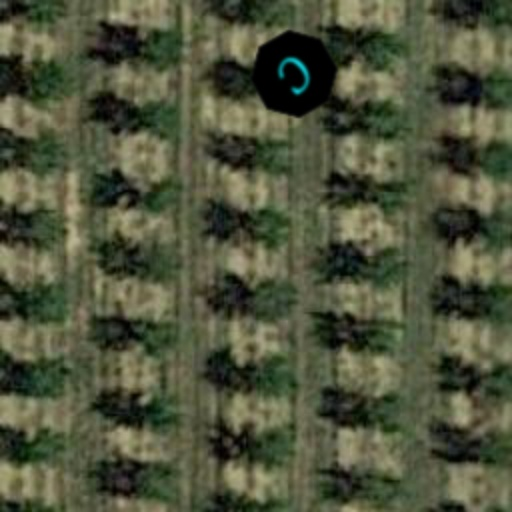octagon: (230, 10, 358, 138)
